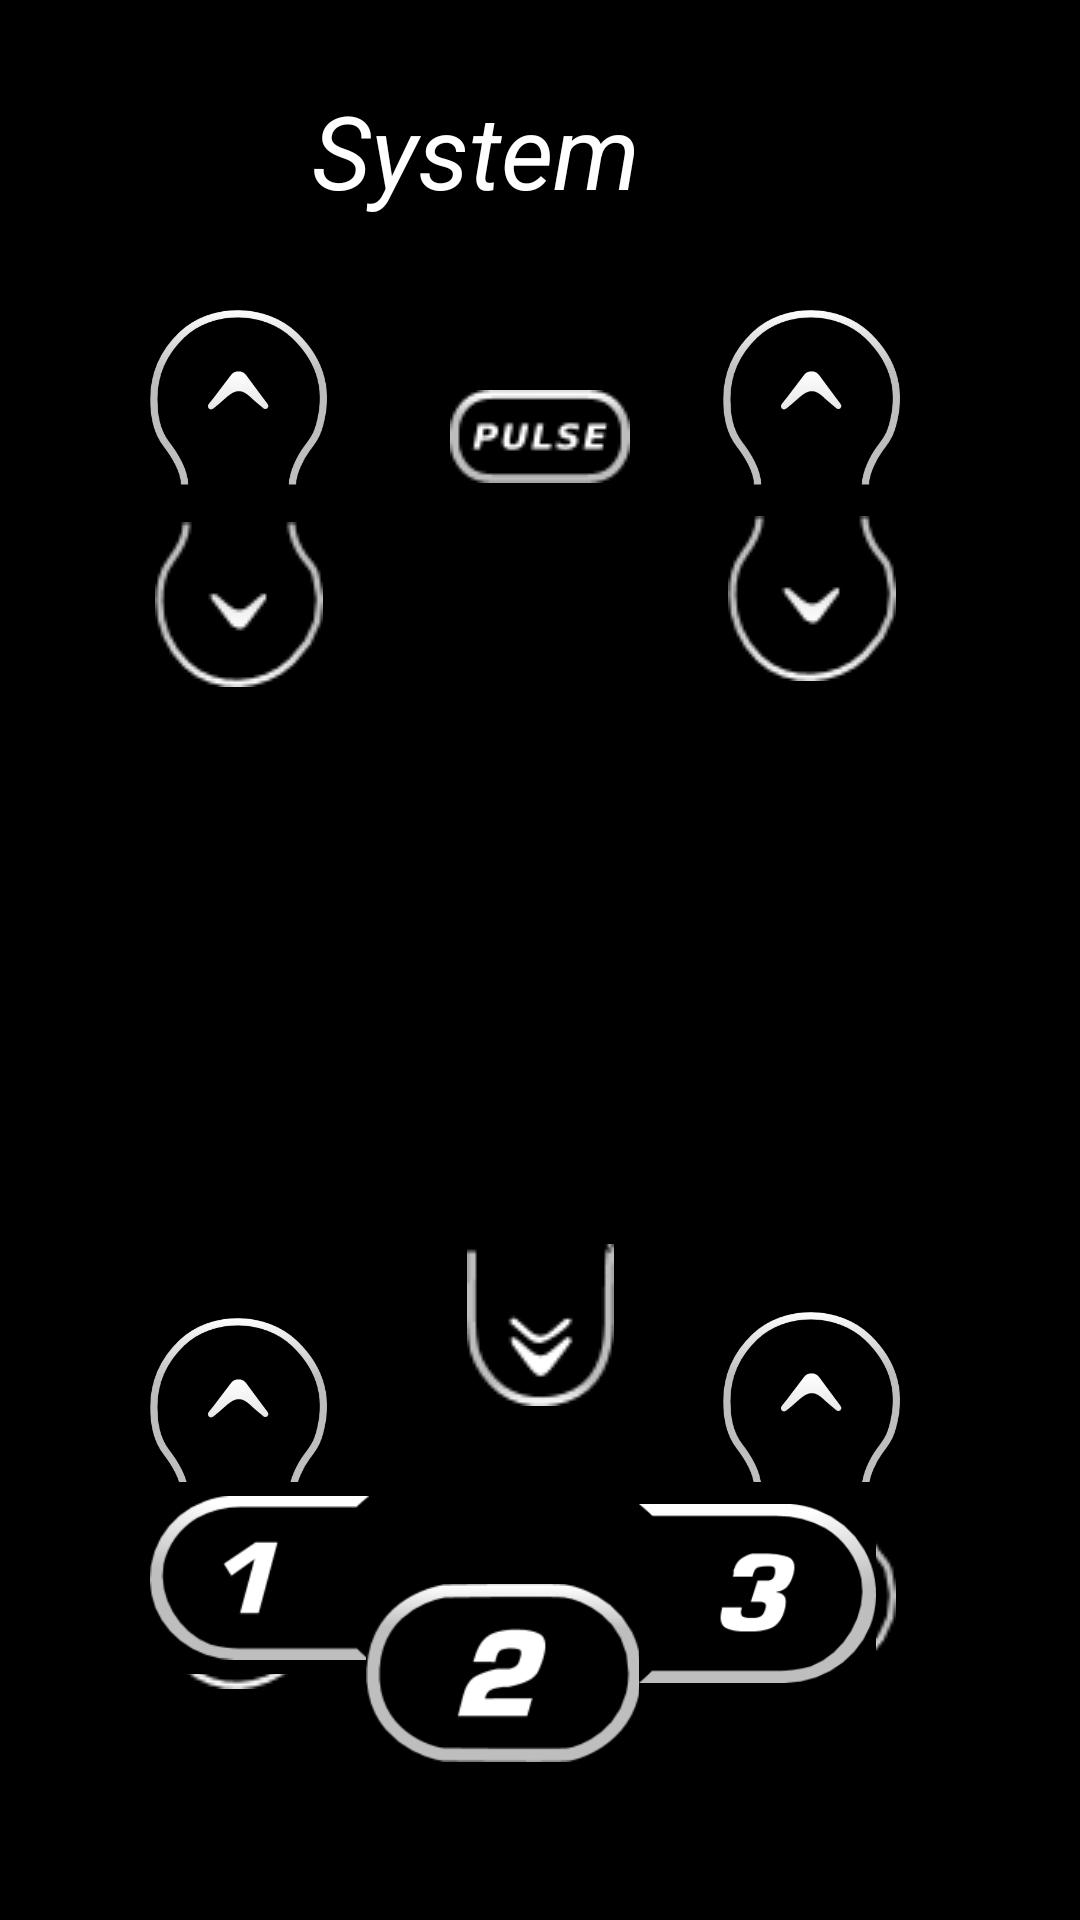

Point at icon controls on the screen. Image size 1080×1920, points as (x,y).
full down: (540,1325)
